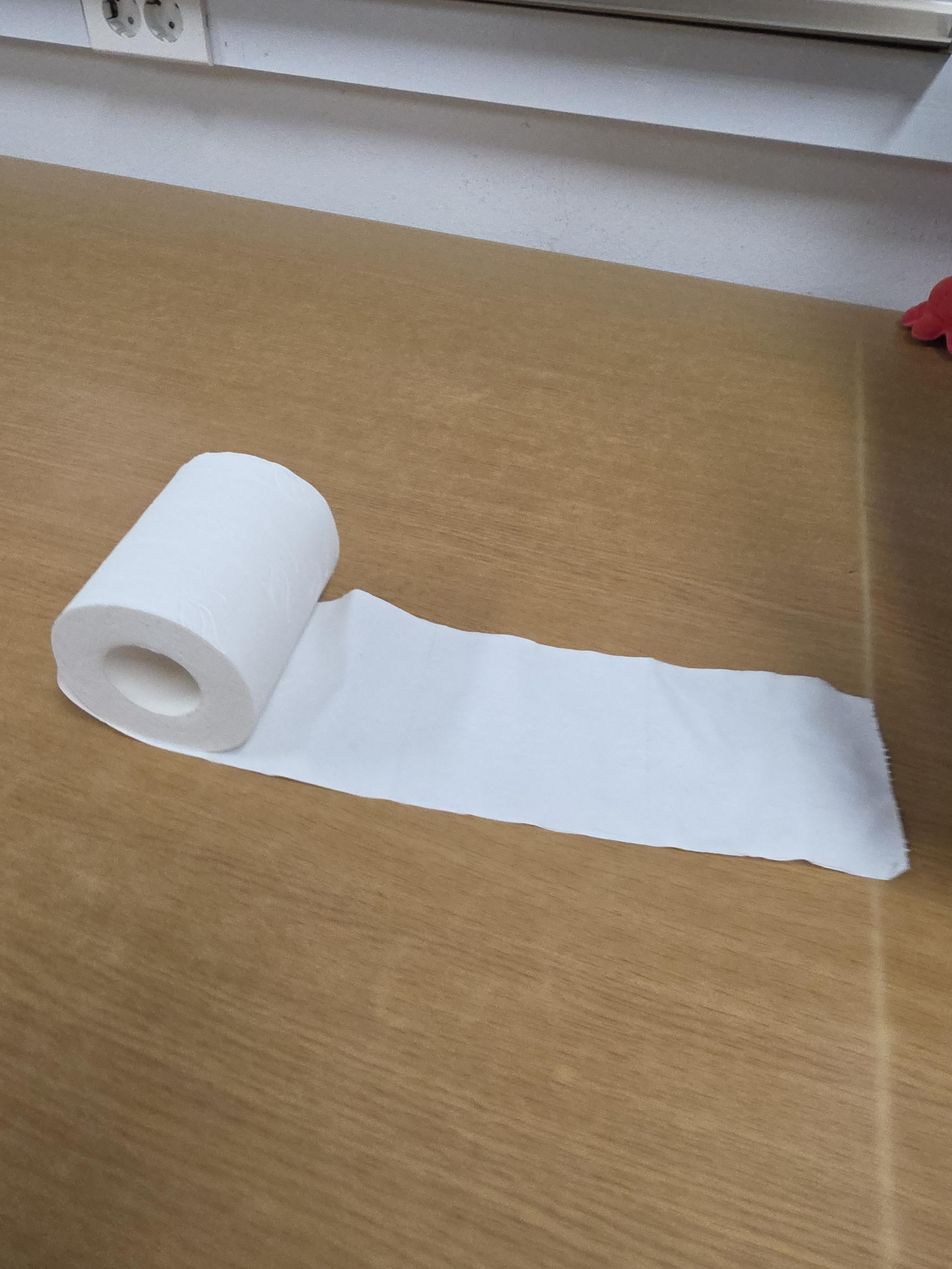tissue: (50, 450, 911, 881)
